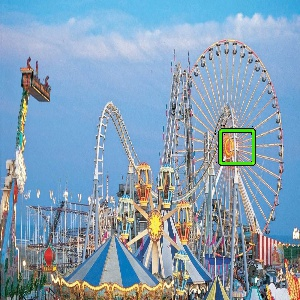square: (217, 127, 256, 166)
